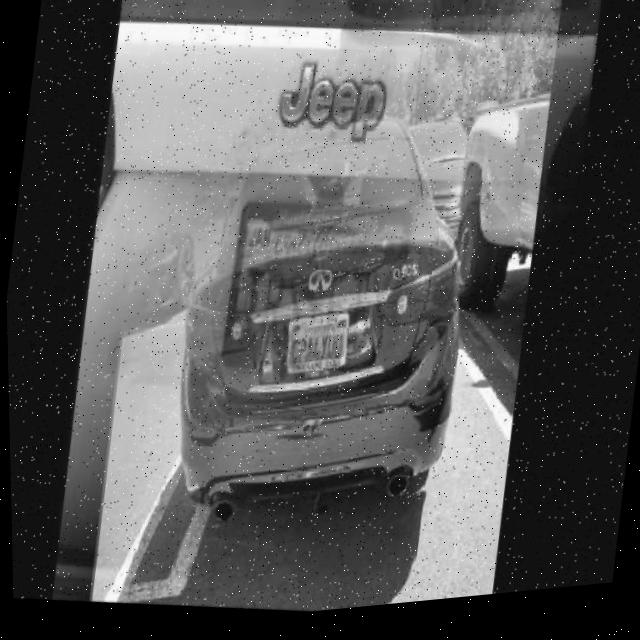LicensePlate: (283, 310, 350, 382)
